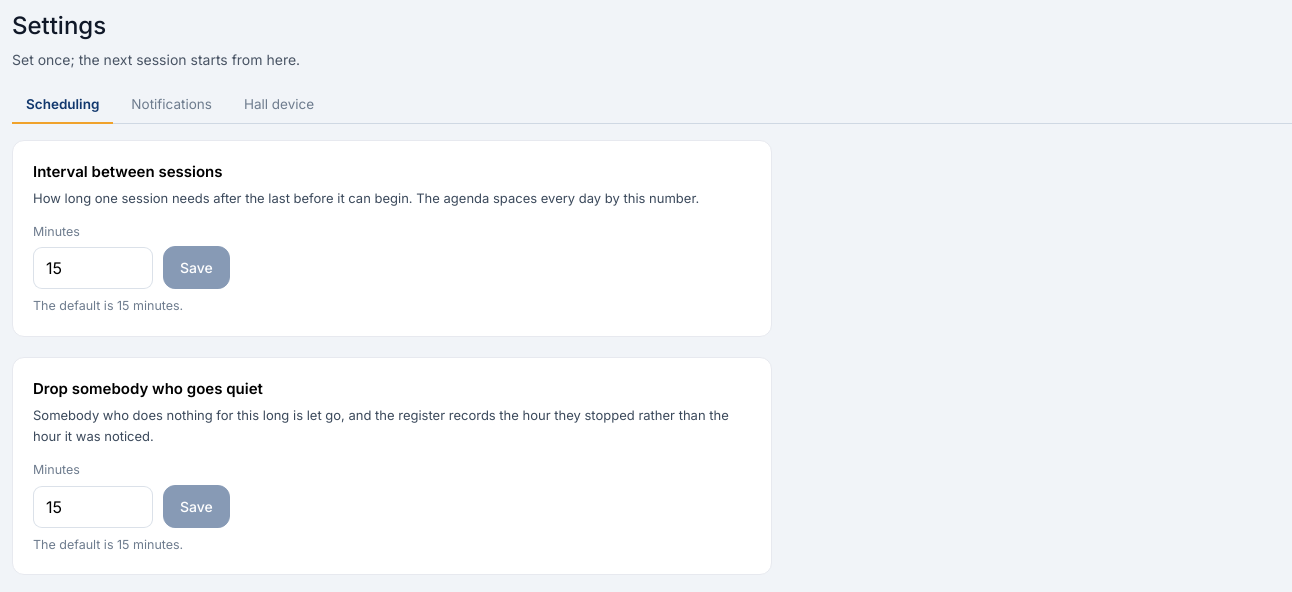
Test: how much warning a programme gives › greys the fields out while they are switched off
This screenshot has width=1292, height=592.
Click the tab "Notifications".
click(172, 105)  # box [117,86,226,124]
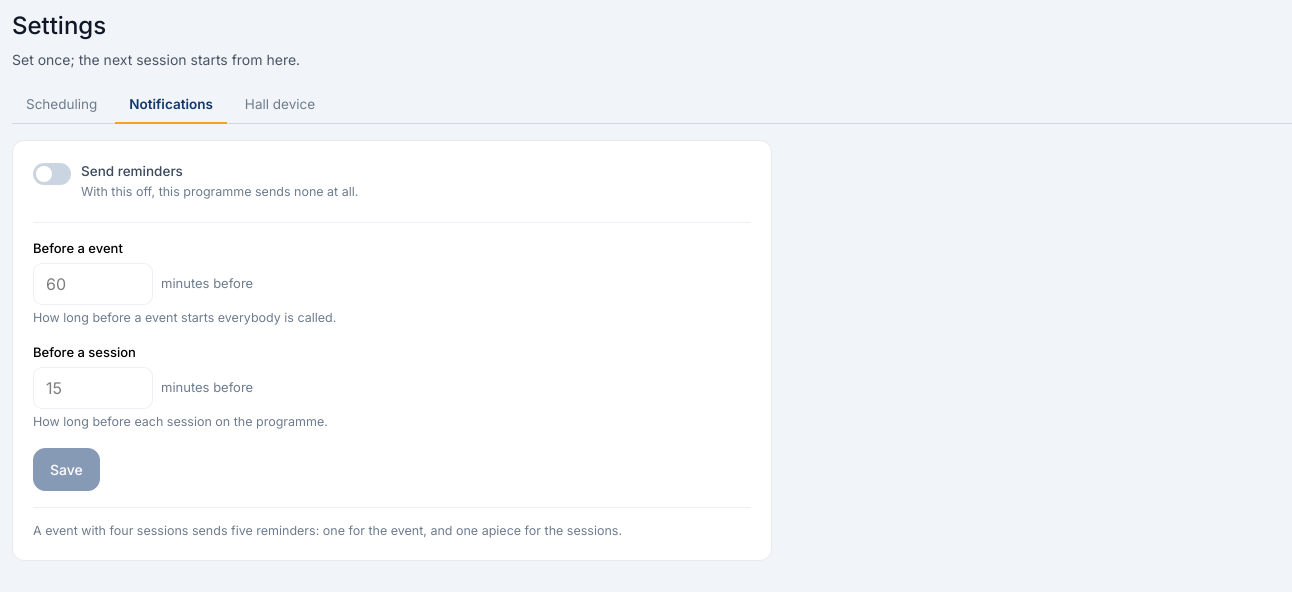
Expected: the button "Save" is disabled, [33,448,100,490]
Result: the number field labelled "Before a event" is disabled at [33,262,153,304]
